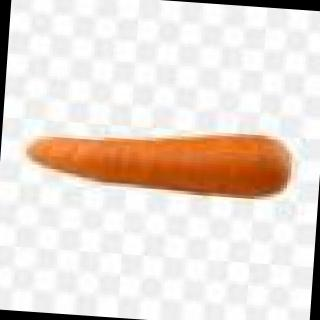Wortel: (10, 103, 295, 231)
